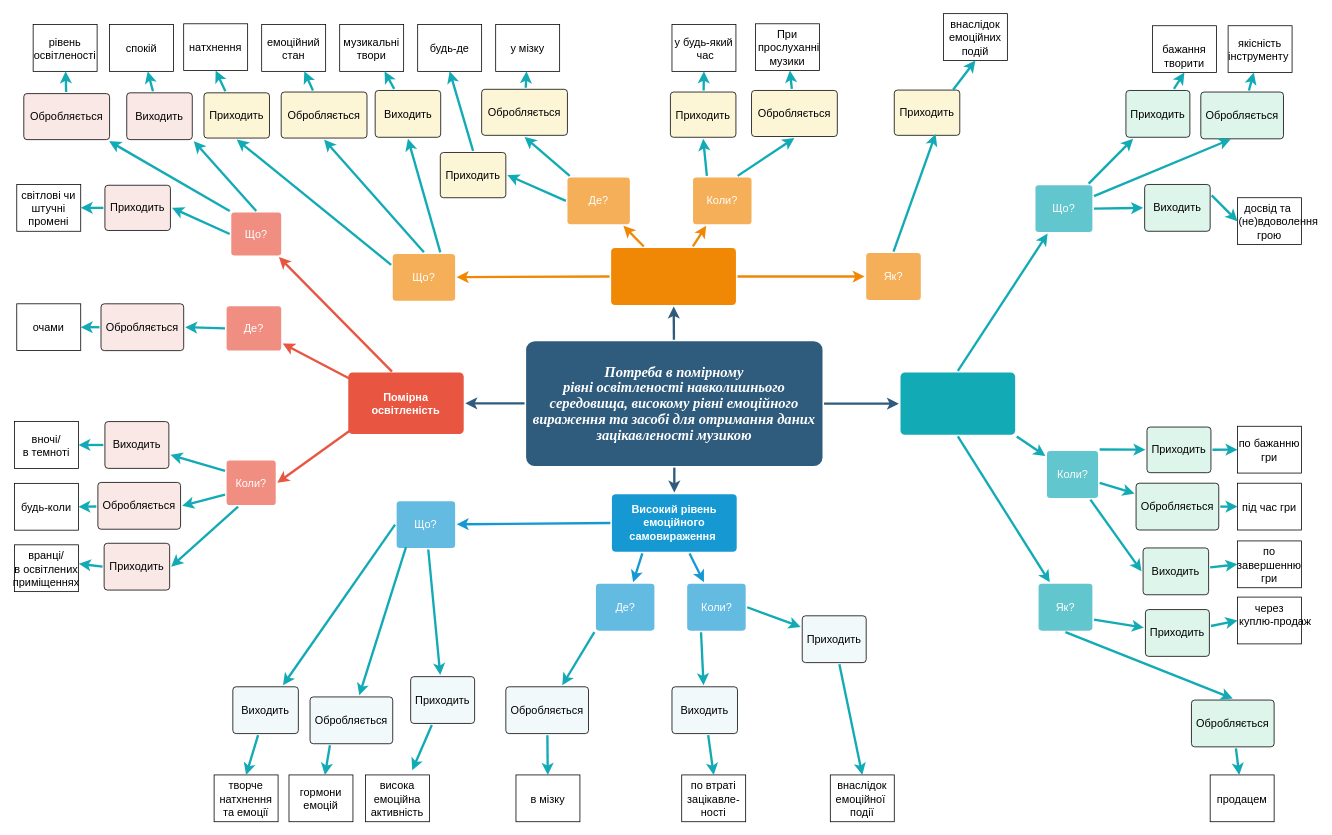
Some shapes in this 1332 by 835 pixel diagram are drawn without their labels. The centre of each missing label's shape, as x and y in pixels:
"Зацікавленість музикою" belongs at (x=673, y=276).
"Інструмент" belongs at (x=957, y=403).
